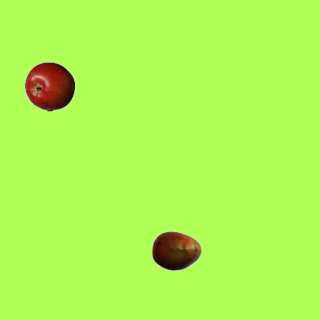Apple Braeburn: (24, 61, 74, 111)
Mango Red: (151, 225, 201, 275)
